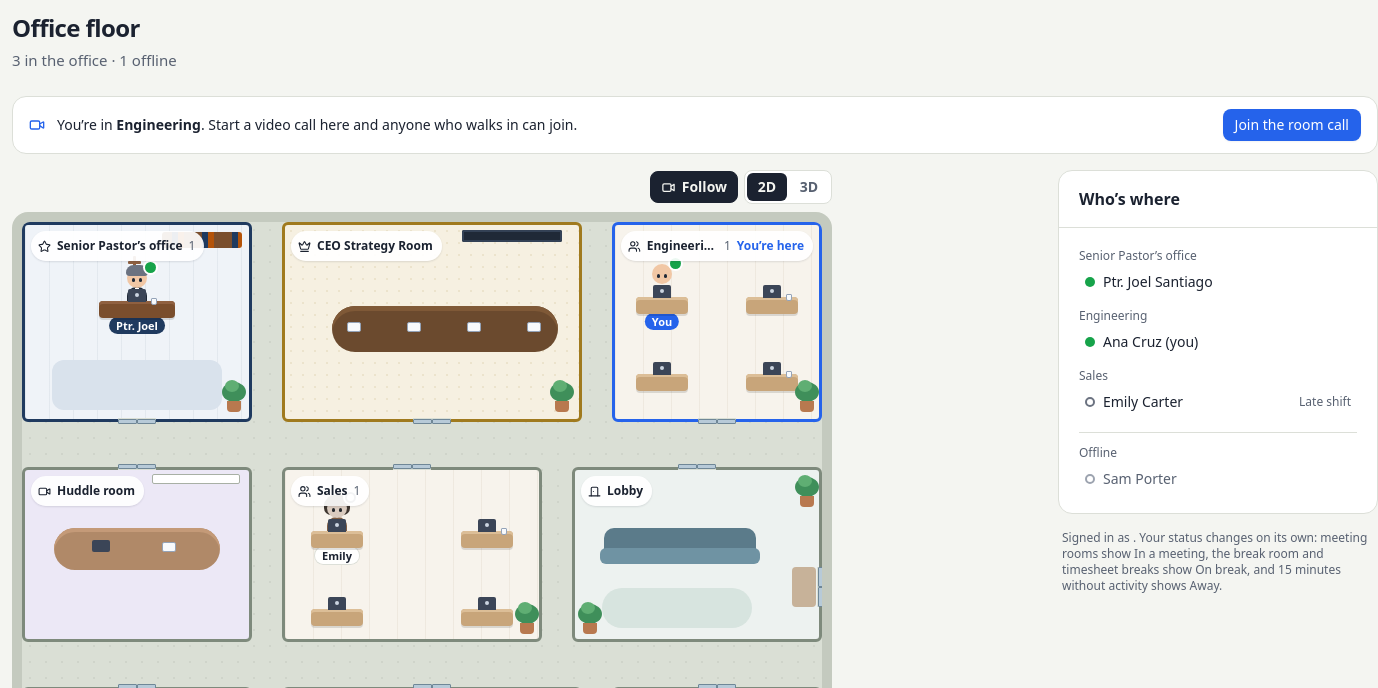
Scenario: Office floor › shows a person’s status, message and local time when you click them
What coordinates should you click on to do the following:
click the button with aria-label "Emily Carter, Away"
I would click on:
 (337, 528)
Its box is [317,490,357,566].
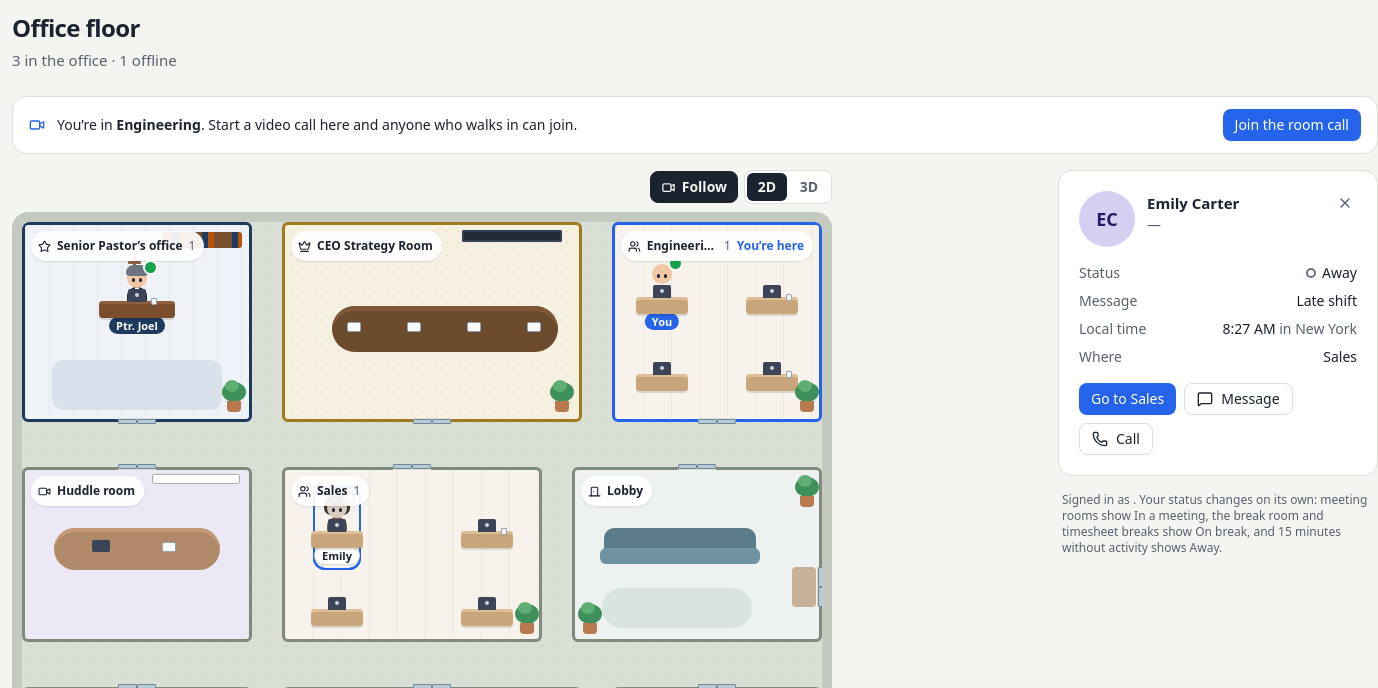
Check: the text "in New York" is shown, box [1279,319,1357,338]
Check: the button "Message" is enabled, box [1184,383,1293,415]
Check: the button "Call" is enabled, box [1079,423,1153,455]
